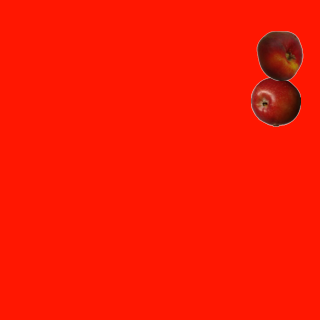Apple Braeburn: (250, 76, 300, 126)
Nectarine Flat: (254, 30, 304, 80)
